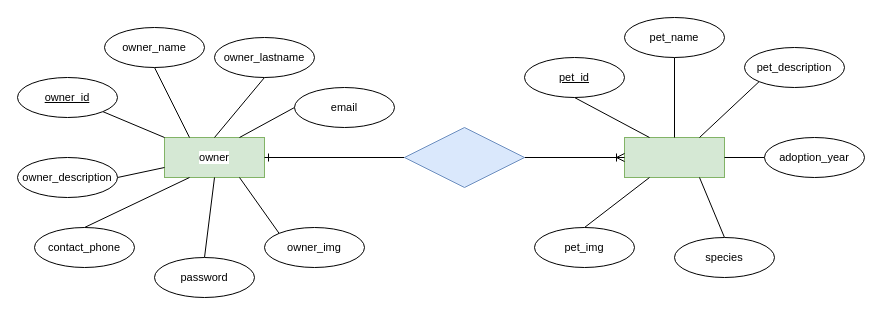
The diagram is 882 pixels wide and 315 high, and some of its shapes have lost their labels. Here are the shapes that lost their labels. From the top down, the box of each, then its label:
(404, 126, 524, 188): has
(624, 136, 724, 178): pet
